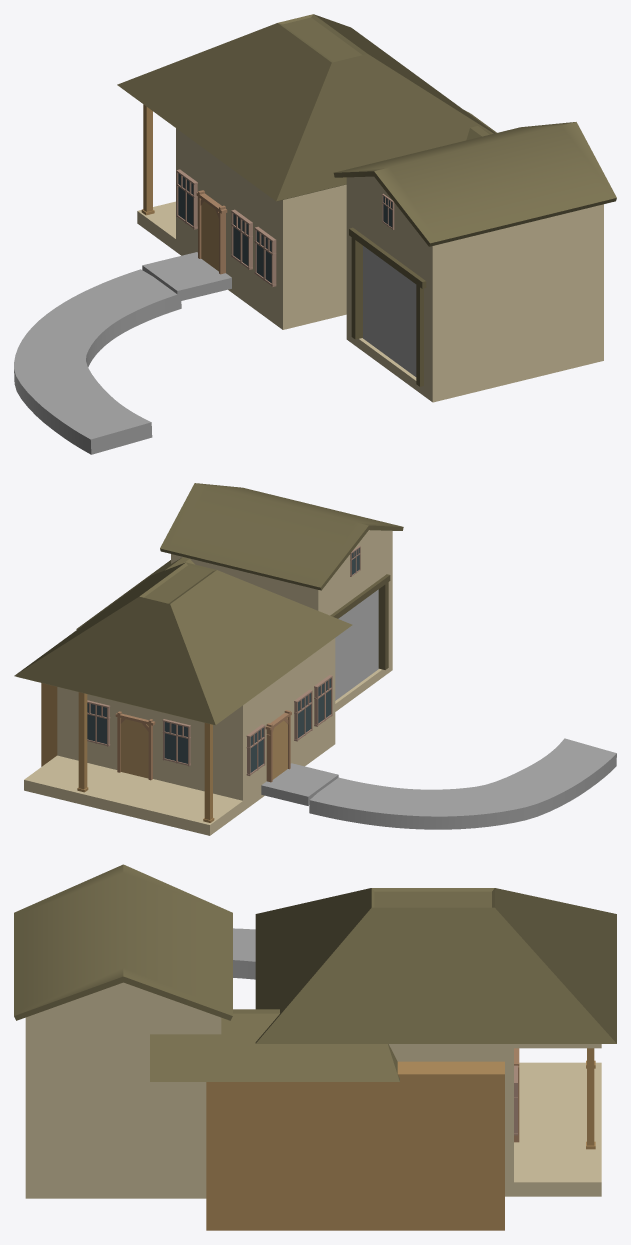
The model's file is house2.fbx.
3 views of the same model, one above another, from view 1: azimuth 30°, elevation 25°; view 2: azimuth 150°, elevation 25°; view 3: azimuth 270°, elevation 25° (orthographic). The views are drawn at different scales.
Visible parts, largest first — view 1: house2; view 2: house2; view 3: house2.
Boxes of the visible parts, <box> form: house2: <box>14,14,616,454</box>; house2: <box>14,483,616,835</box>; house2: <box>14,864,616,1230</box>.
Size of the model in its own units: 2080 by 905 by 1886.
